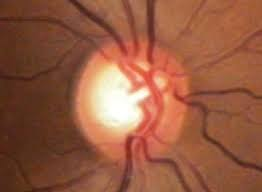Glaucoma section-1: (97, 68, 146, 120)
Glaucoma section-2: (75, 41, 189, 157)
